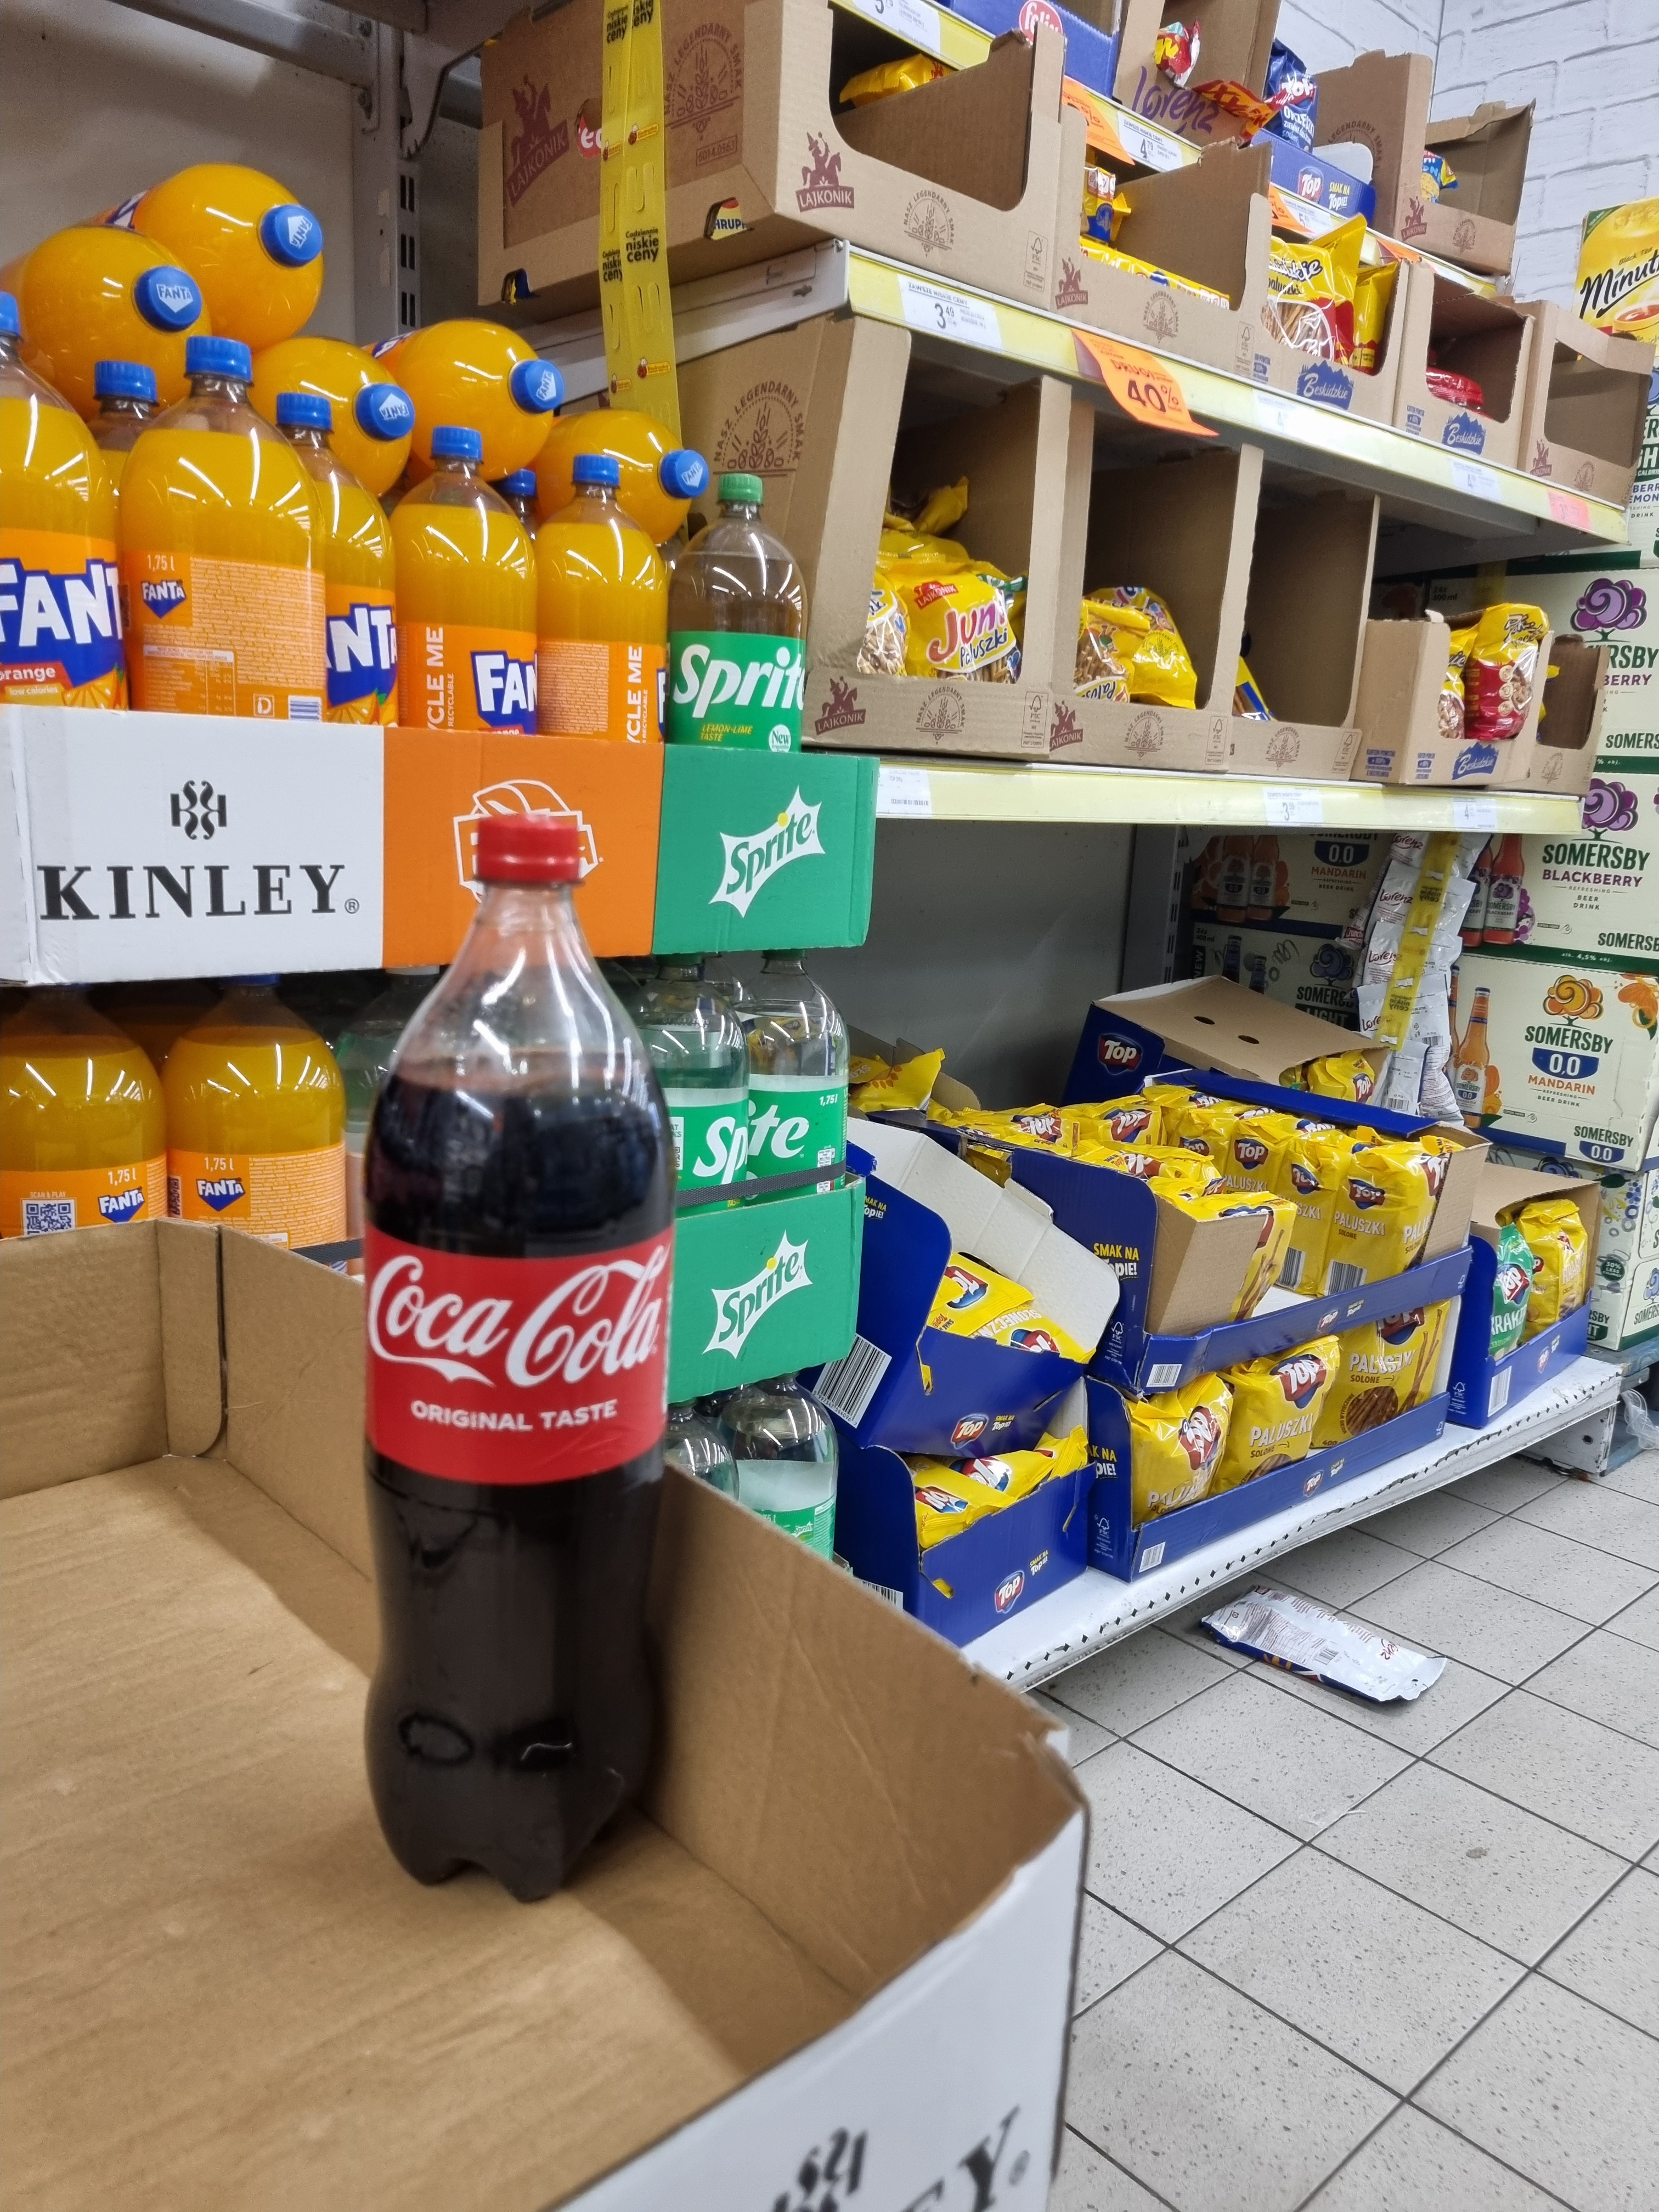Coca Cola: (356, 805, 674, 1904)
